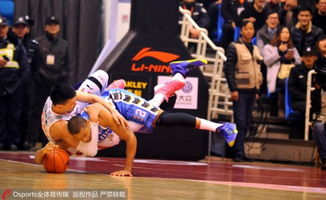10+: (1, 1, 325, 169)
down: (35, 85, 244, 166), (34, 63, 188, 160)
